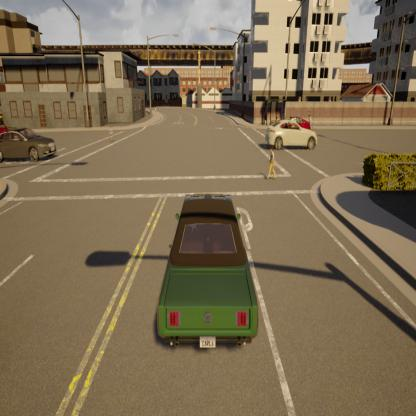Cars: (153, 184, 266, 360), (0, 118, 62, 164), (256, 117, 323, 148), (271, 108, 322, 138), (0, 105, 34, 150)
Pedestrian: (261, 144, 280, 186)
